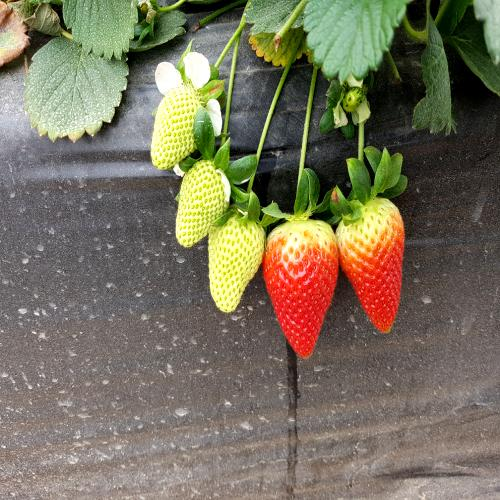partially-ripe: (329, 184, 410, 340), (262, 203, 337, 367)
unripe: (142, 67, 210, 178), (207, 194, 265, 318), (170, 145, 231, 252)
